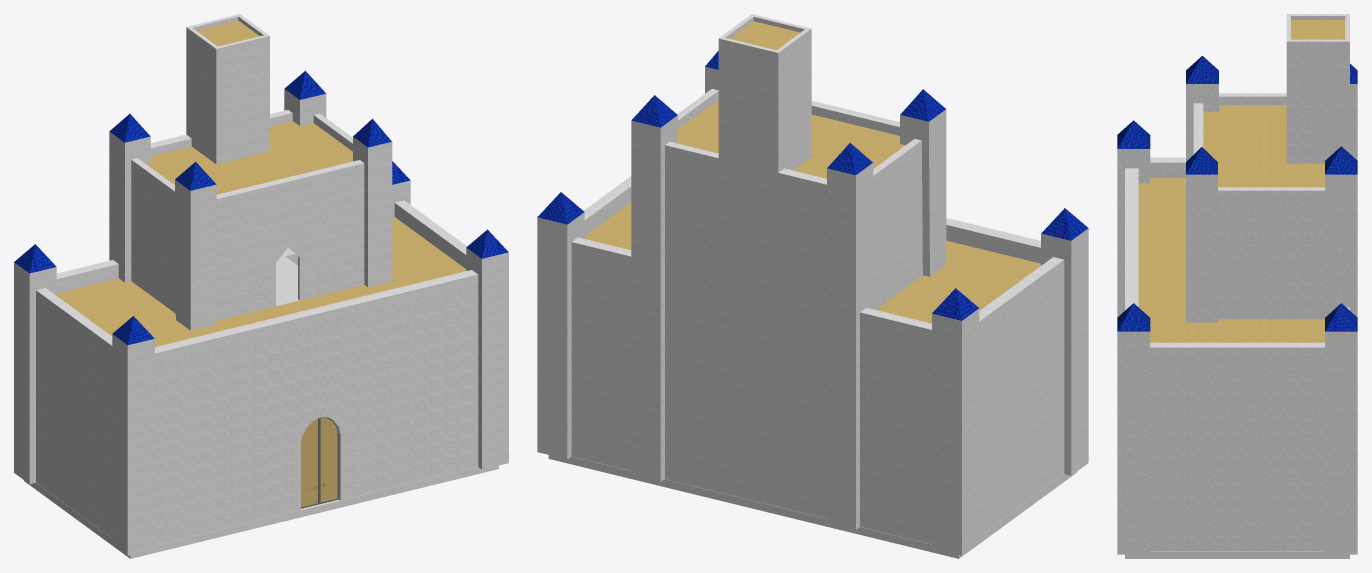
The model's file is hqv2.fbx.
3 renders of one model, left to right at view 1: azimuth 30°, elevation 25°; view 2: azimuth 150°, elevation 25°; view 3: azimuth 270°, elevation 25°, orthographic. The views are drawn at different scales.
Visible parts, largest first — view 1: Exterior, Interior, Front Door Right, Front Door Left, thirdFloor; view 2: Exterior, Interior; view 3: Exterior, Interior.
Boxes of the visible parts, <box> form: Exterior: <box>14,14,508,555</box>; Interior: <box>24,420,498,558</box>; Front Door Right: <box>319,417,338,504</box>; Front Door Left: <box>301,418,319,508</box>; thirdFloor: <box>276,247,299,306</box>; Exterior: <box>537,14,1088,555</box>; Interior: <box>548,455,1077,558</box>; Exterior: <box>1117,14,1357,554</box>; Interior: <box>1125,551,1349,558</box>.
Bounding box in the file's own units: 3224 × 3351 × 1666.
